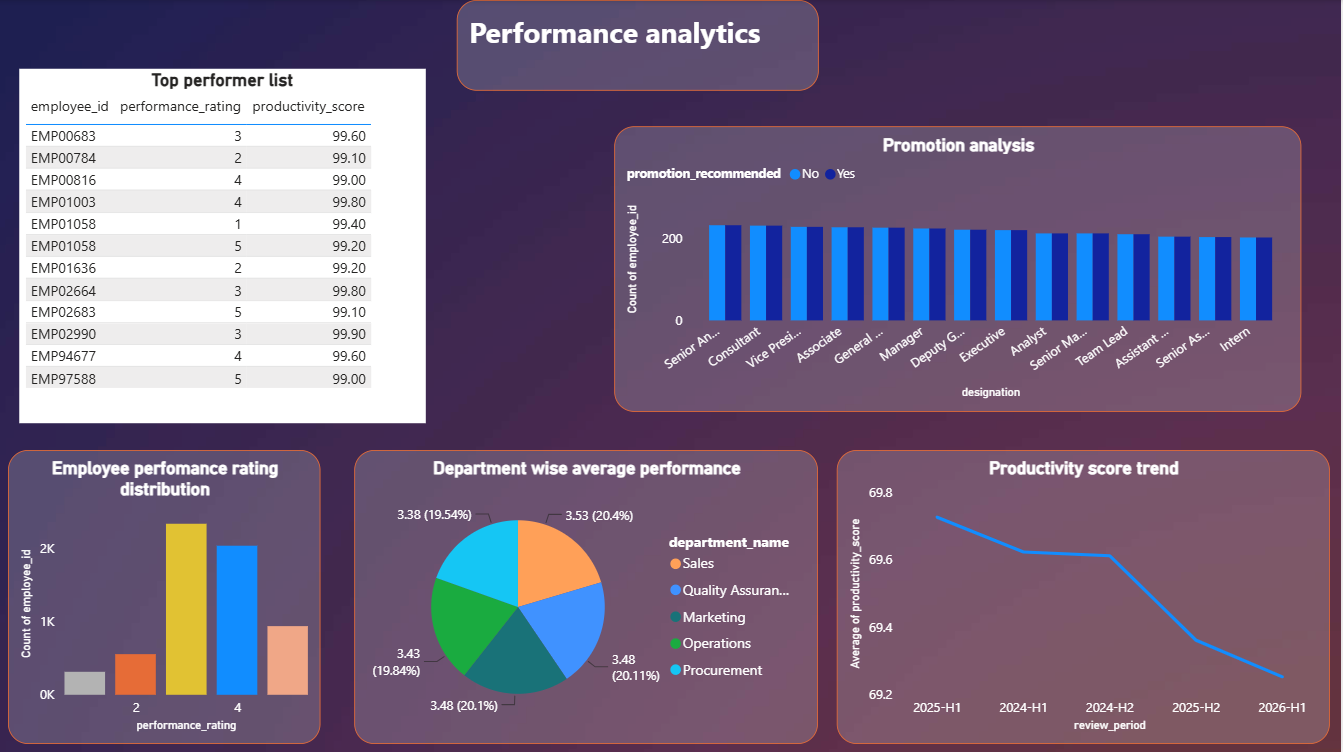

Layout of this report page (visuals, bound fields, positions):
{"tool":"powerbi","page":{"name":"Performance Analytics","canvas":[1280,720],"ordinal":3},"visuals":[{"type":"clusteredColumnChart","title":"Employee perfomance  rating distribution","fields":{"Category":["cleaned_performance_review.performance_rating"],"Y":["CountNonNull(cleaned_performance_review.employee_id)"]},"box":[9.6,428.1,297.8,279.9],"z":0},{"type":"pieChart","title":"Department wise average performance","fields":{"Category":["cleaned_departments.department_name"],"Y":["Avg(cleaned_performance_review.performance_rating)"]},"box":[338.9,428.1,441.9,279.9],"z":1000},{"type":"tableEx","title":"Top performer list","fields":{"Values":["cleaned_performance_review.employee_id","cleaned_performance_review.performance_rating","cleaned_performance_review.productivity_score"]},"box":[20.6,65.9,387,337.6],"z":2000},{"type":"lineChart","title":"Productivity score trend","fields":{"Category":["cleaned_performance_review.review_period"],"Y":["Avg(cleaned_performance_review.productivity_score)"]},"box":[798.6,428.1,469.3,279.9],"z":3000},{"type":"clusteredColumnChart","title":"Promotion analysis","fields":{"Category":["cleaned_employees.designation"],"Y":["CountNonNull(cleaned_employees.employee_id)"],"Series":["cleaned_performance_review.promotion_recommended"]},"box":[587.3,120.8,654.5,271.7],"z":4000},{"type":"textbox","box":[436.4,0,344.4,86.4],"z":5000}]}

Visuals, with their boxes in screenshot pixels (x1, y1, x2, y2), scaled from the page's 1280x720 canvas onto the 1343x752 screenshot:
"Employee perfomance  rating distribution" clusteredColumnChart: [10, 447, 323, 739]
"Department wise average performance" pieChart: [356, 447, 819, 739]
"Top performer list" tableEx: [22, 69, 428, 421]
"Productivity score trend" lineChart: [838, 447, 1330, 739]
"Promotion analysis" clusteredColumnChart: [616, 126, 1303, 410]
textbox: [458, 0, 819, 90]
